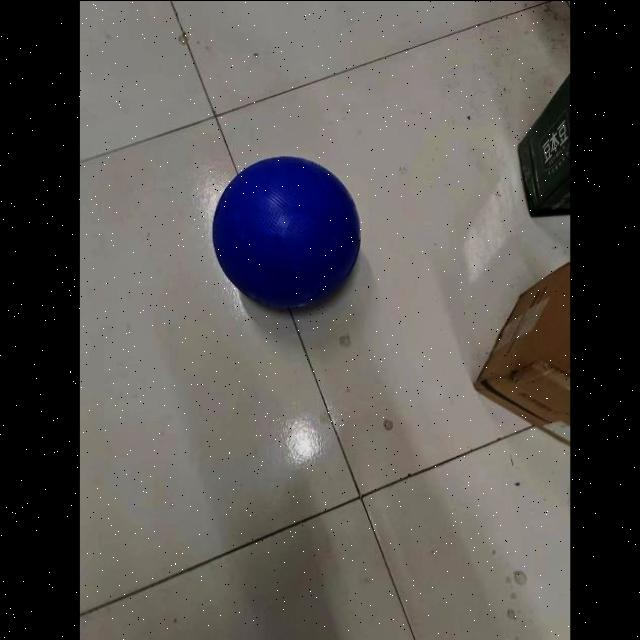B: (208, 151, 362, 315)
